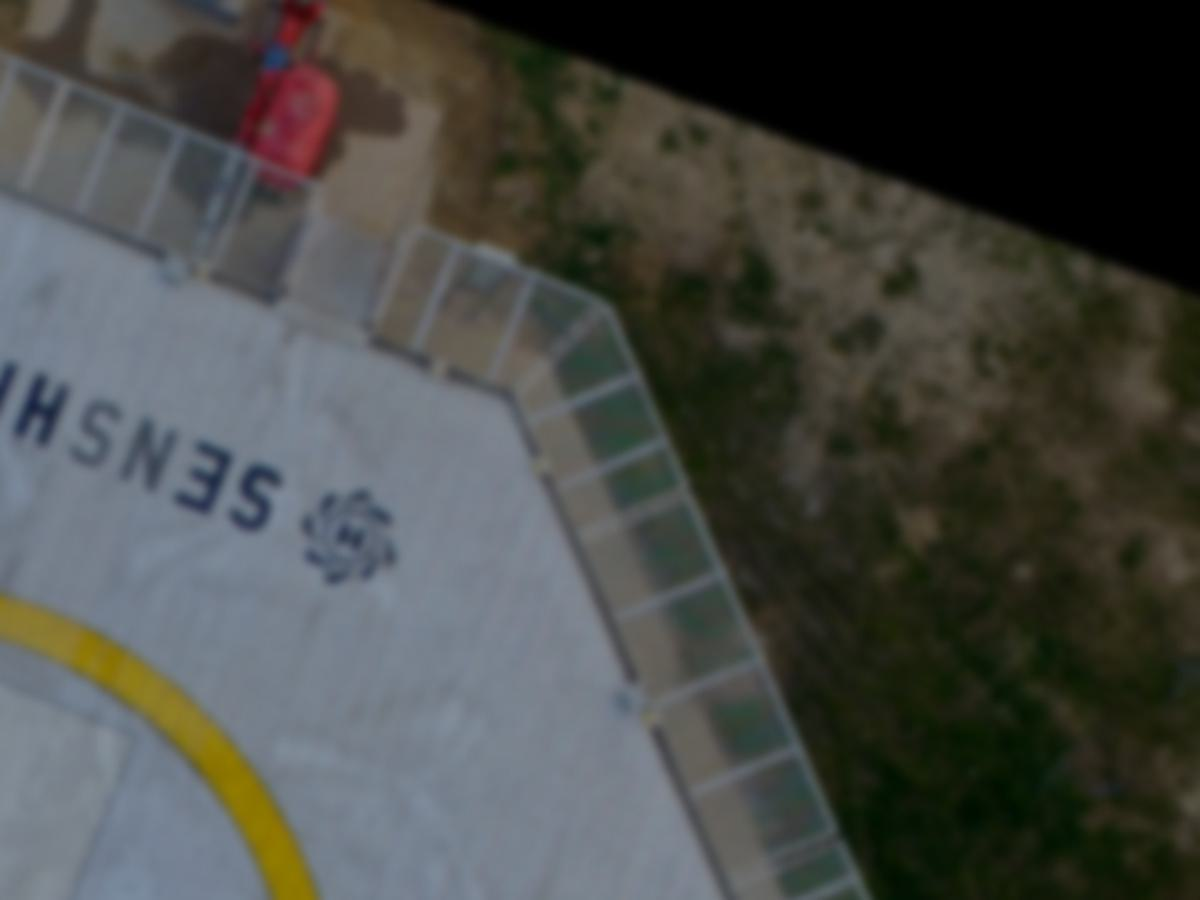Apron: (1, 563, 334, 900)
